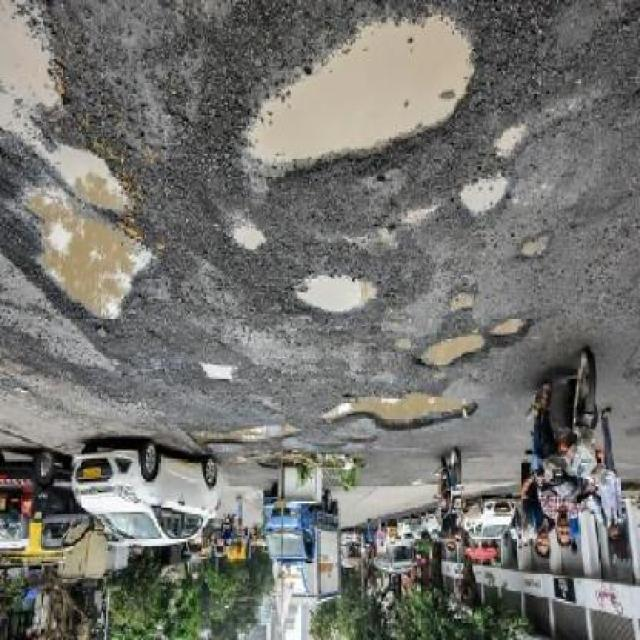pothole: (238, 14, 477, 186), (2, 144, 155, 330), (0, 1, 65, 137), (317, 390, 477, 438), (294, 270, 377, 322), (413, 332, 485, 376), (190, 422, 299, 450), (459, 175, 510, 222), (492, 124, 530, 162), (516, 230, 553, 267), (488, 316, 527, 350), (196, 361, 235, 388), (228, 229, 266, 253), (444, 295, 476, 316)
